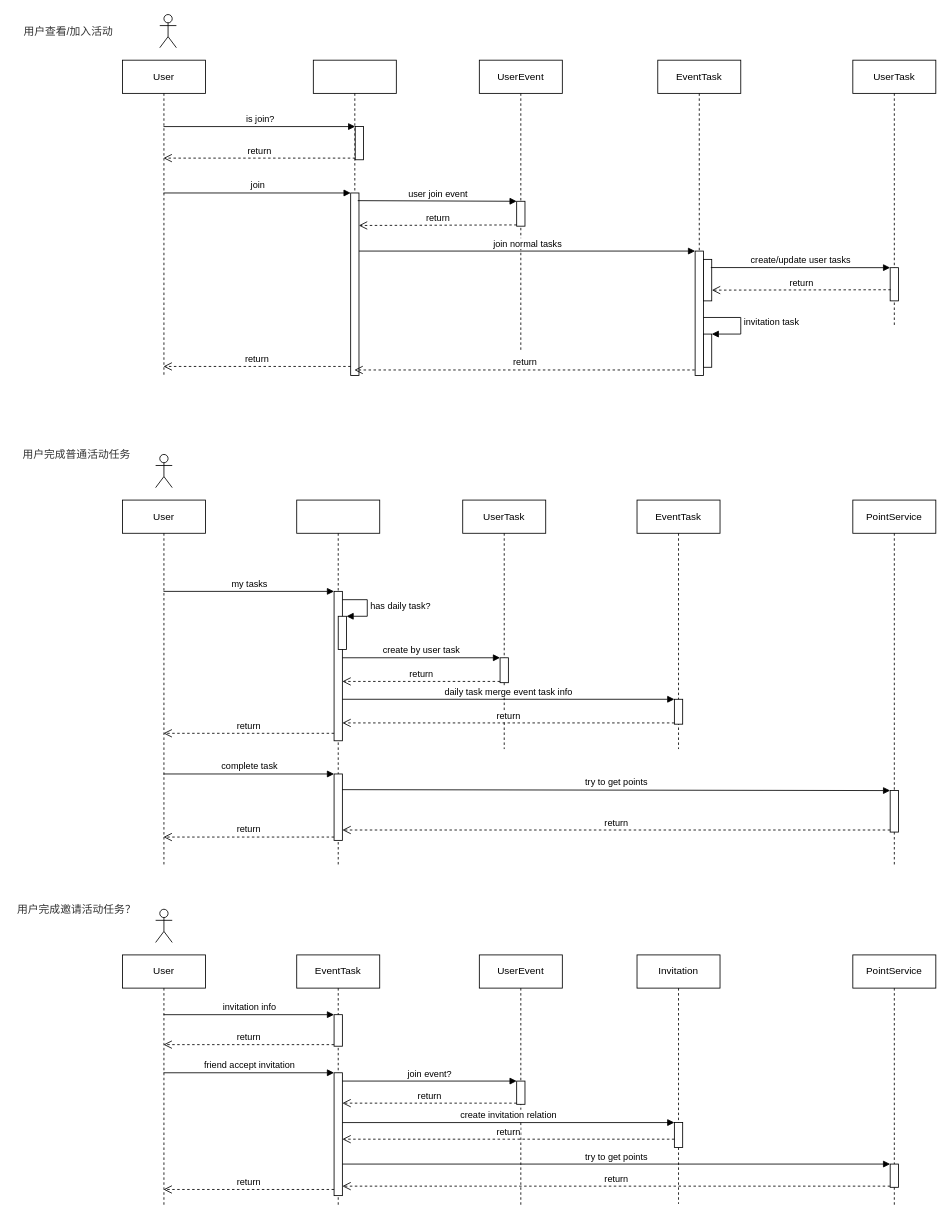
This 950x1220 diagram has some shape labels left out. Each missing label, with the box of its shape:
DailyTask: (296, 499, 380, 865)
Event: (312, 59, 396, 376)
